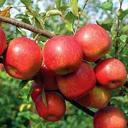apple: (3, 37, 43, 81)
